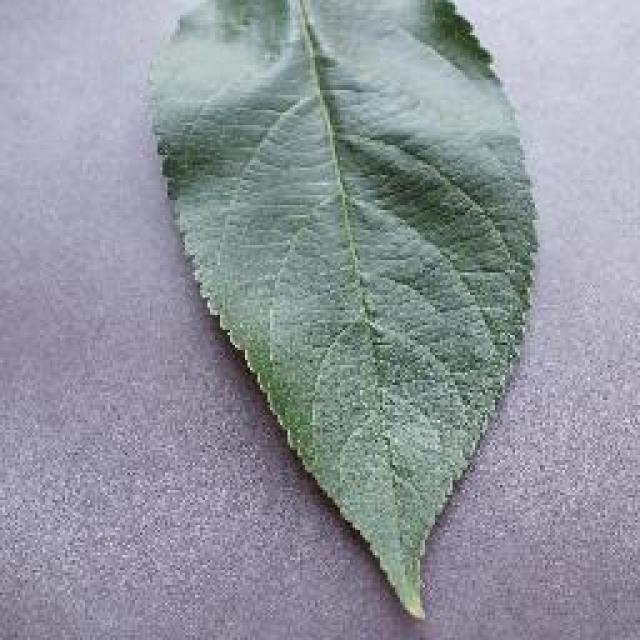apple healthy: (142, 0, 542, 620)
